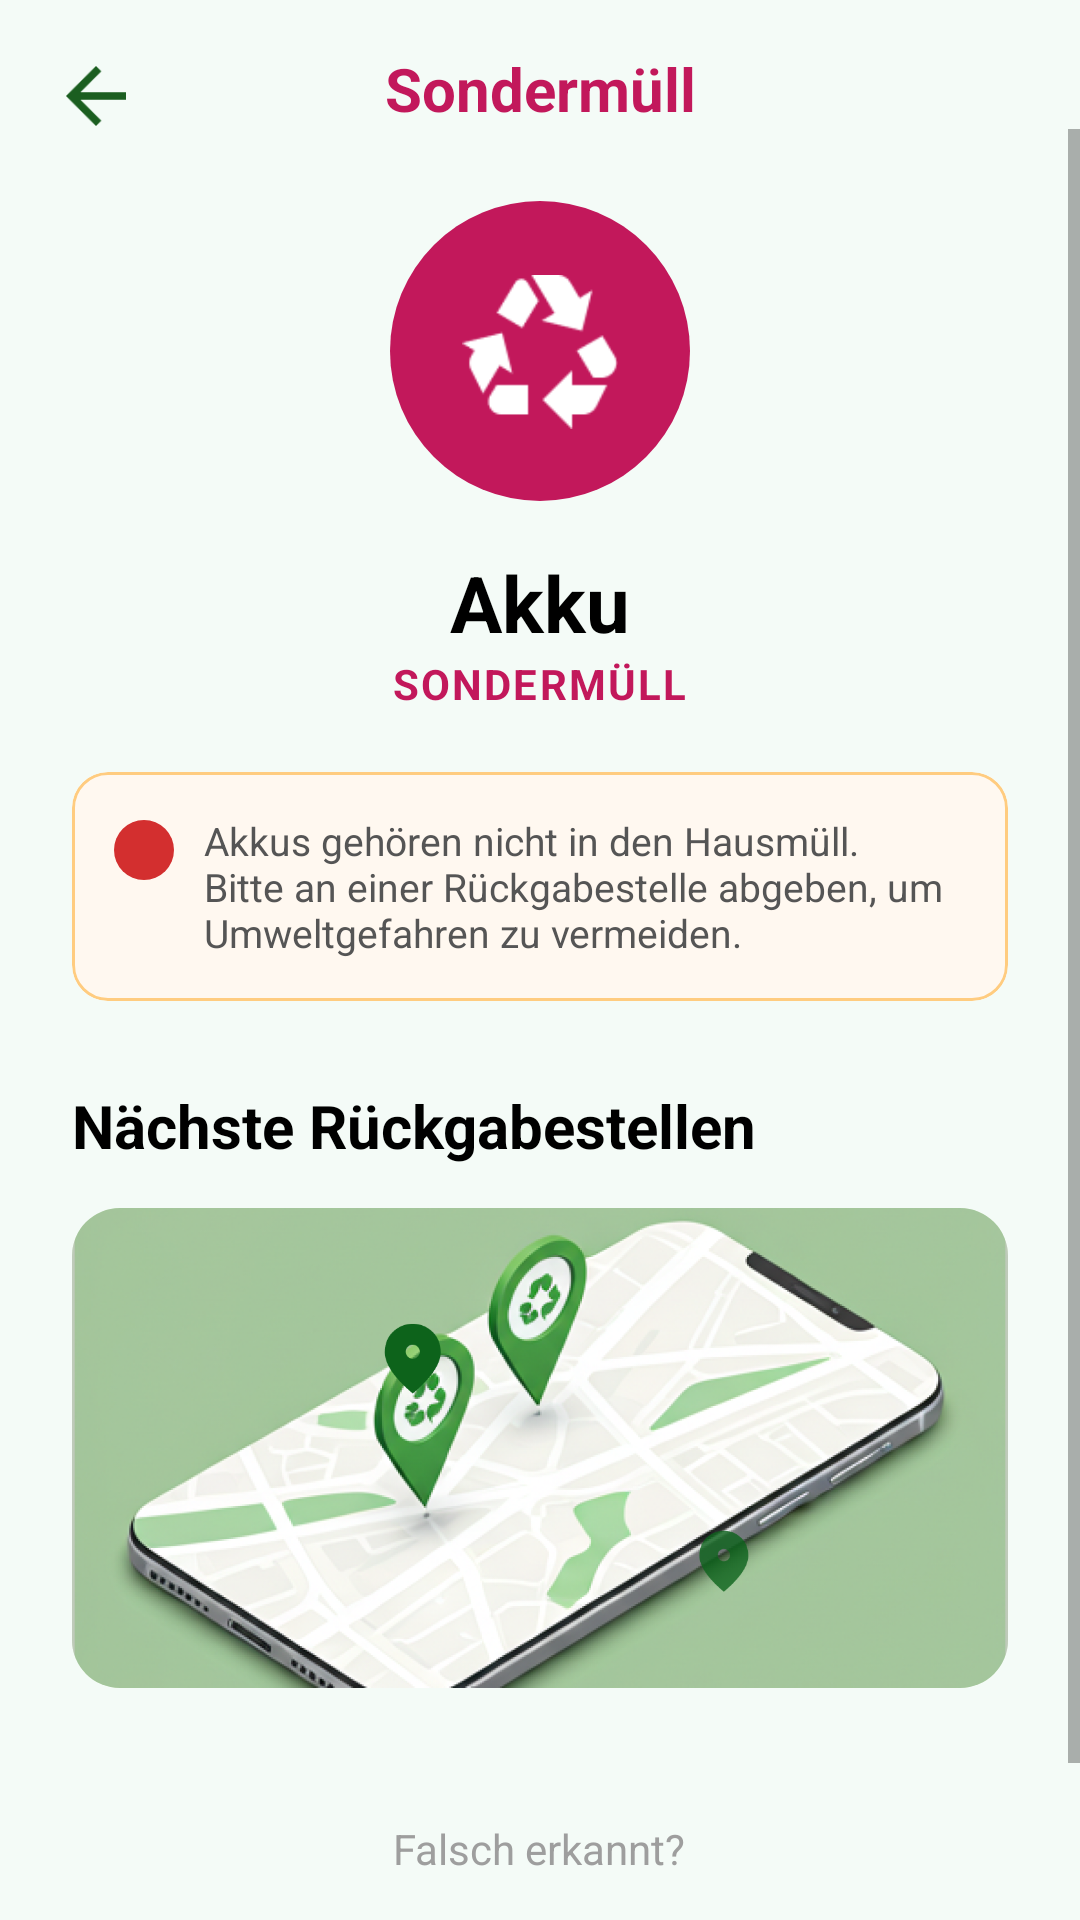

Named icons in this screenshot (1080x1920) and their centers, point (x, y):
back arrow: point (96, 96)
